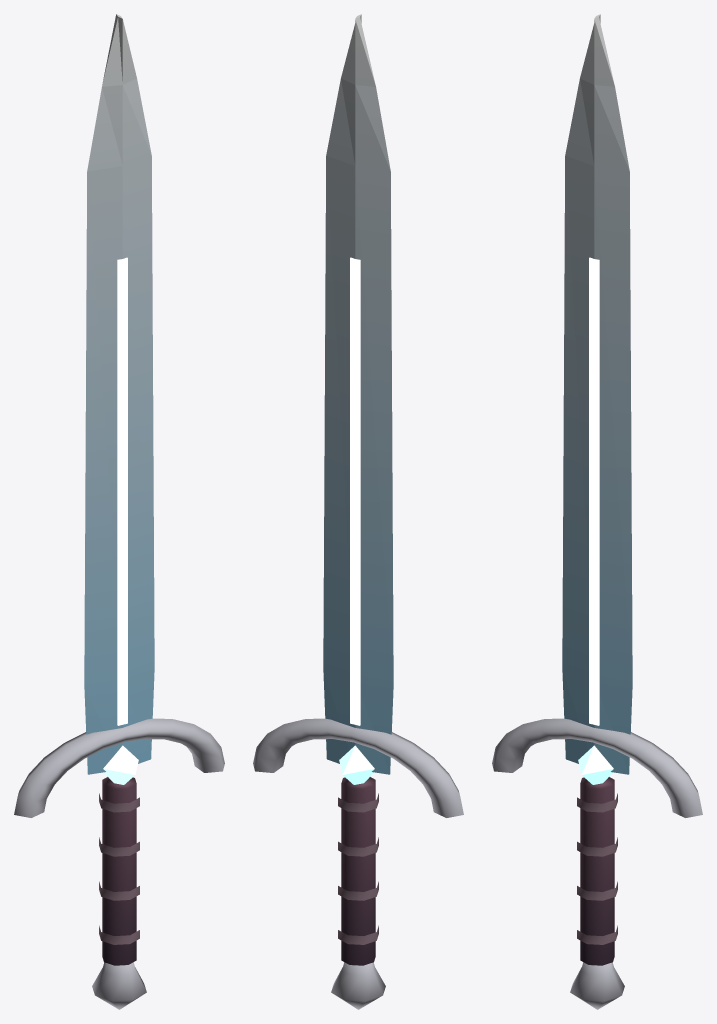
Rendered from sword_frost.glb.
3 views of the same model, side by side, from view 1: azimuth 30°, elevation 25°; view 2: azimuth 150°, elevation 25°; view 3: azimuth 330°, elevation 25° (orthographic).
Parts seen in each view (by area): view 1: sword_frost; view 2: sword_frost; view 3: sword_frost.
Part boxes in pixels (x1,y1,x2,y2): sword_frost: (14,14,224,1009); sword_frost: (253,14,463,1009); sword_frost: (492,14,702,1009).
Bounding box in the file's own units: 0.3 × 1.35 × 0.0784.
